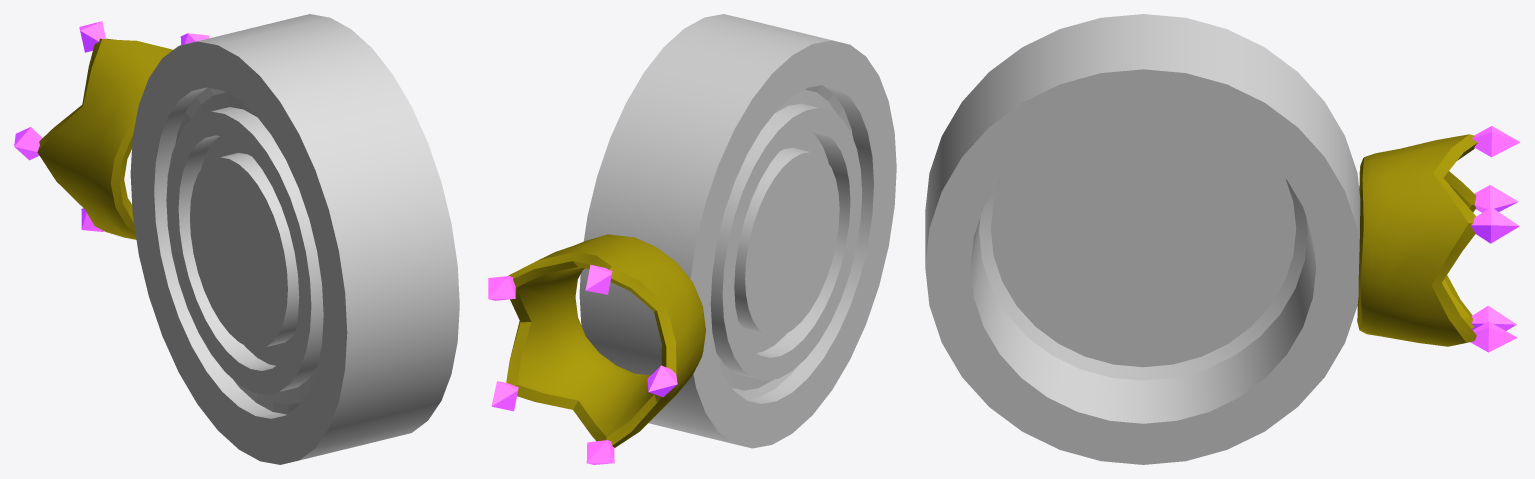
File: Checker_Queen-1.fbx
3 views of the same model, side by side, from view 1: azimuth 30°, elevation 25°; view 2: azimuth 150°, elevation 25°; view 3: azimuth 270°, elevation 25° (orthographic). The views are drawn at different scales.
Visible parts, largest first — view 1: Checker_Queen_1, Crown, Gems; view 2: Checker_Queen_1, Crown, Gems; view 3: Checker_Queen_1, Crown, Gems.
Boxes of the visible parts, box(x1,y1,x2,y2) form: Checker_Queen_1: box(130, 14, 459, 464); Crown: box(37, 38, 173, 239); Gems: box(14, 21, 209, 231); Checker_Queen_1: box(579, 14, 896, 448); Crown: box(506, 234, 705, 447); Gems: box(488, 264, 677, 464); Checker_Queen_1: box(925, 14, 1360, 464); Crown: box(1357, 134, 1477, 346); Gems: box(1470, 126, 1520, 352).
Bounding box in the file's own units: 0.5222 × 1 × 1.36.
